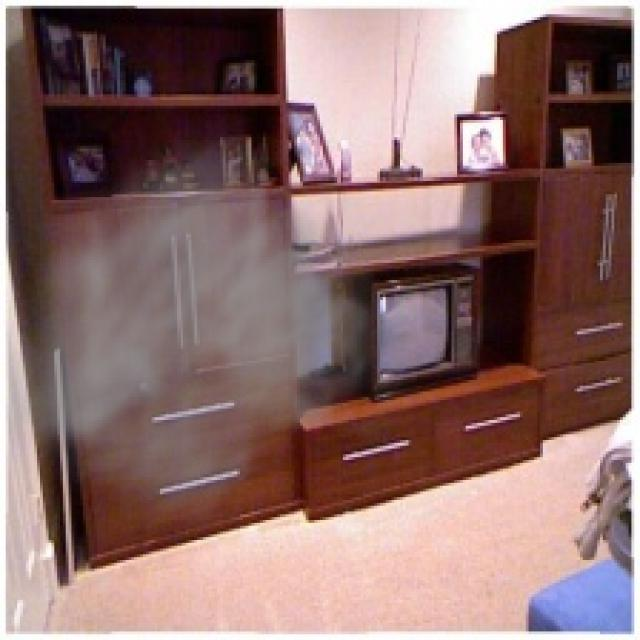smoke: (9, 123, 420, 540)
